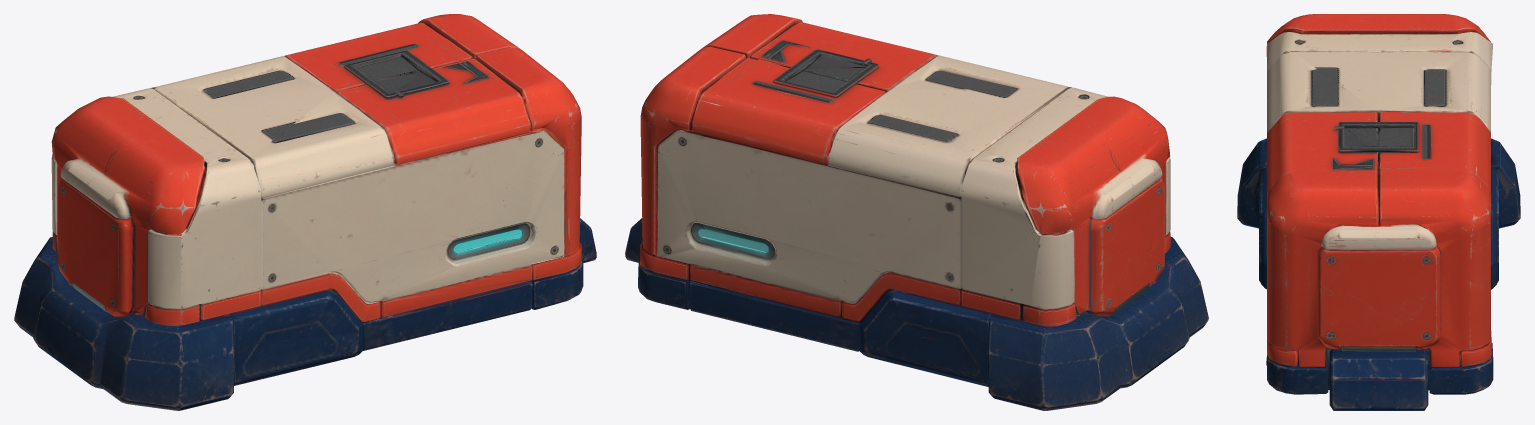
The model's file is crate.fbx.
3 views of the same model, side by side, from view 1: azimuth 30°, elevation 25°; view 2: azimuth 150°, elevation 25°; view 3: azimuth 270°, elevation 25° (orthographic). The views are drawn at different scales.
Visible parts, largest first — view 1: crate; view 2: crate; view 3: crate.
Boxes of the visible parts, <box> form: crate: <box>14,14,596,410</box>; crate: <box>625,14,1208,410</box>; crate: <box>1237,14,1520,410</box>.
Bounding box in the file's own units: 2.5 × 0.9985 × 1.29.
